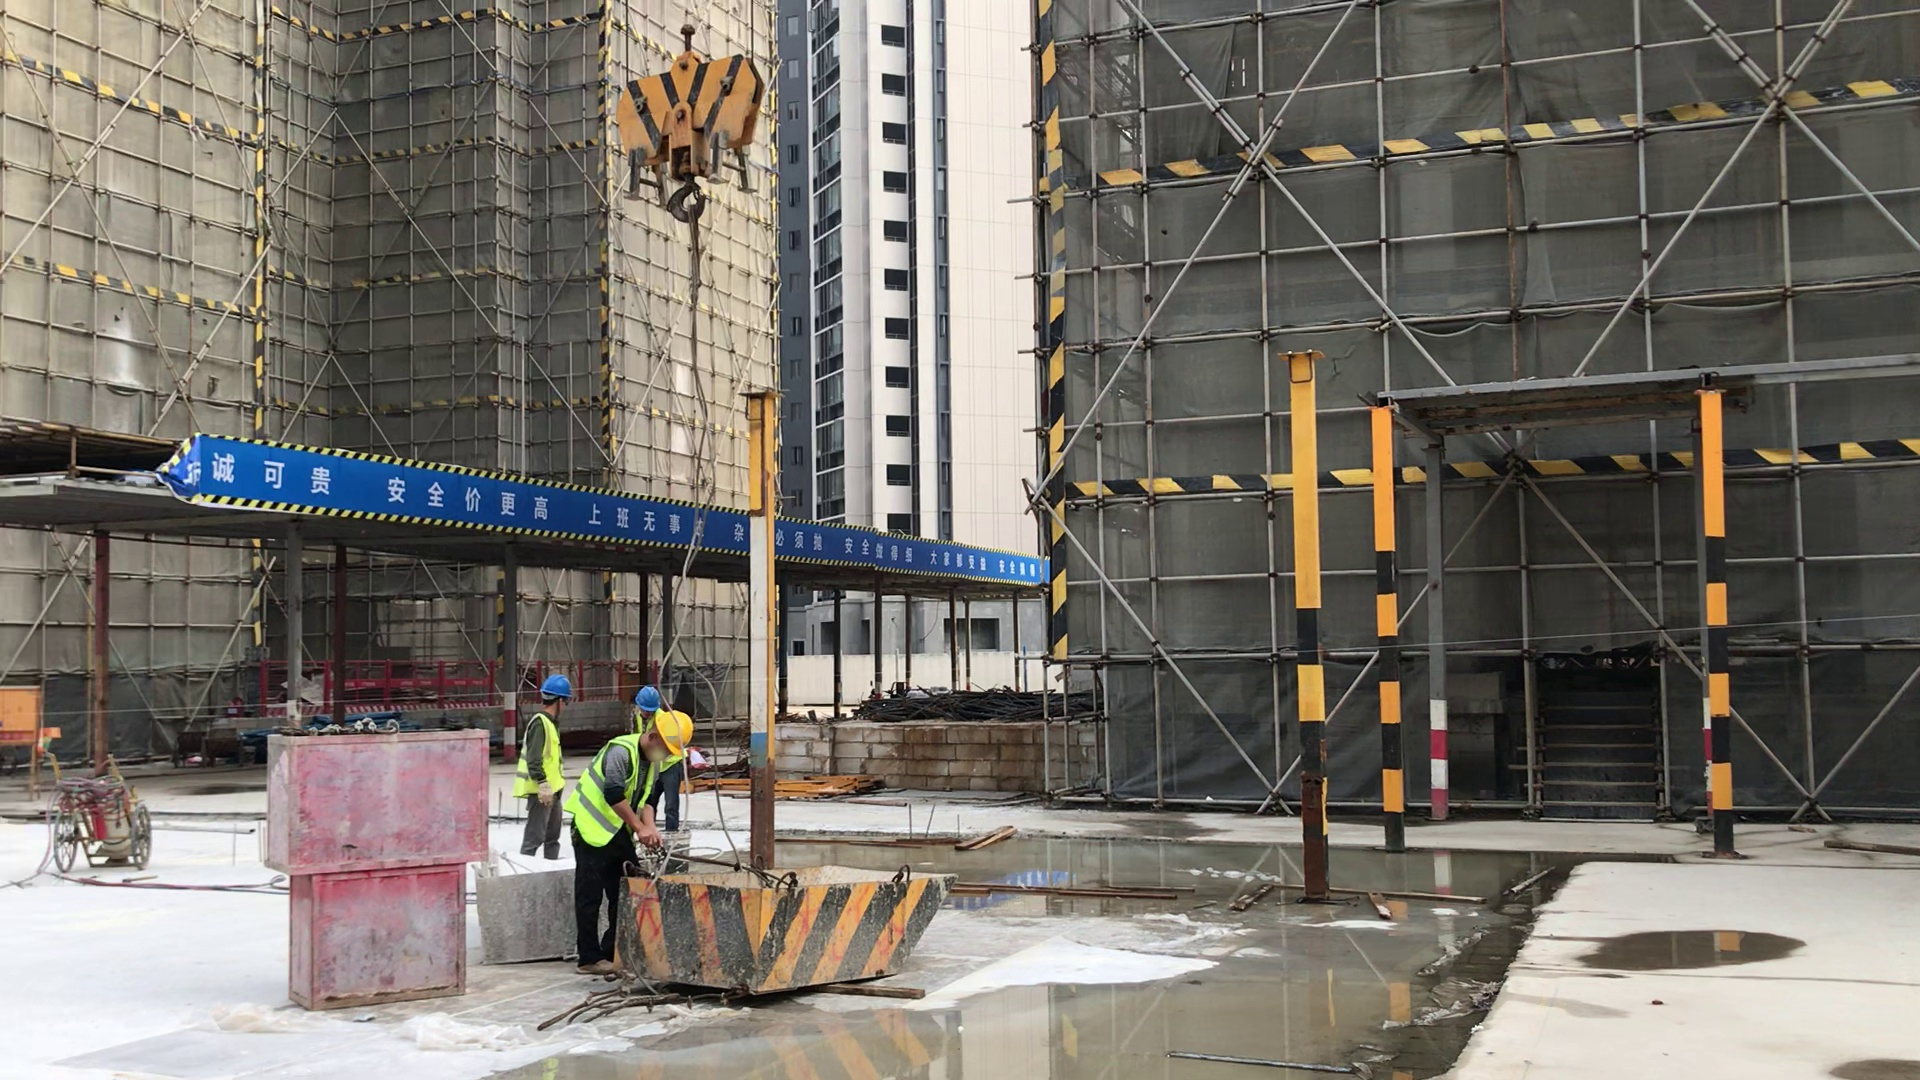ebox: (1, 683, 46, 799)
fence: (206, 437, 743, 563), (780, 517, 1036, 585), (348, 650, 495, 704), (576, 661, 627, 700)
handcart: (40, 743, 154, 875)
helmet: (653, 710, 694, 755), (539, 677, 573, 702), (635, 686, 663, 713)
hook: (617, 27, 762, 222)
hopper: (611, 858, 958, 990), (478, 856, 576, 972)
person: (562, 709, 695, 975), (516, 675, 585, 864)
vest: (563, 733, 657, 847), (516, 712, 564, 799)
